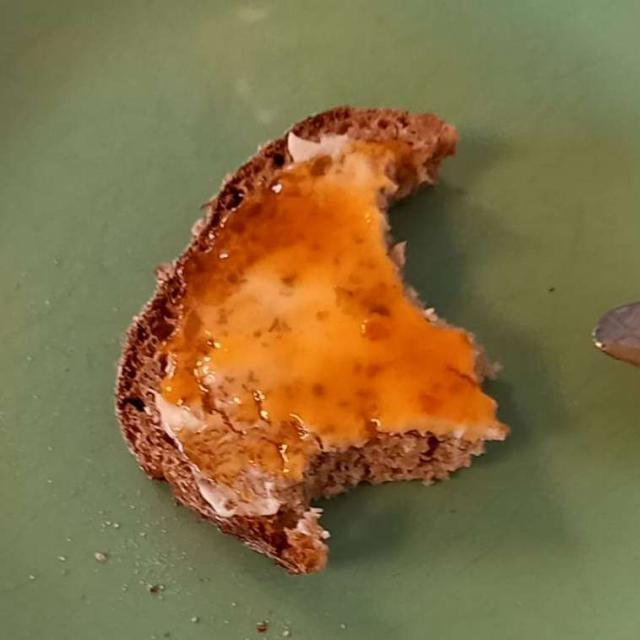bread: (138, 124, 499, 563)
jam: (149, 137, 503, 478)
